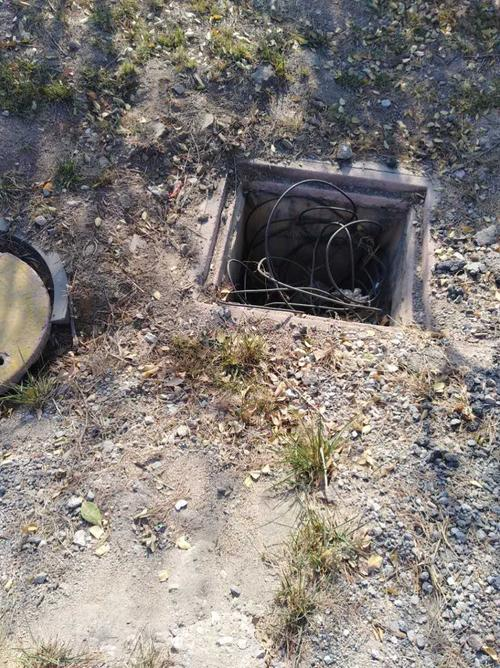lose: (165, 145, 454, 357)
